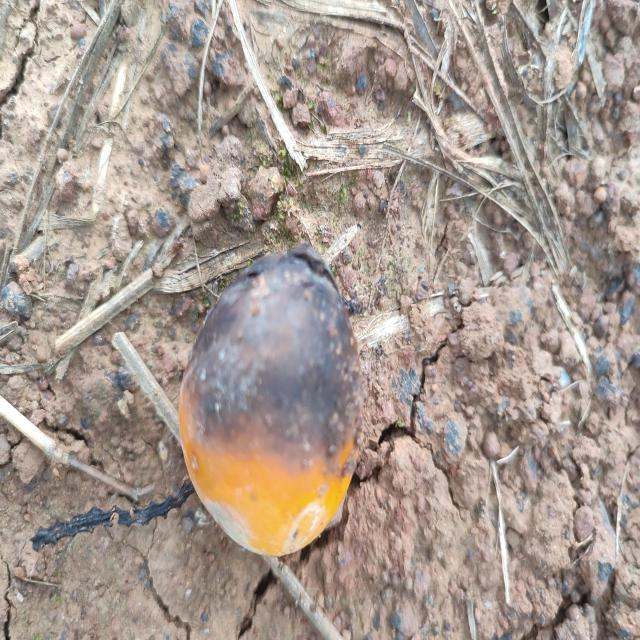damaged: (179, 244, 363, 556)
